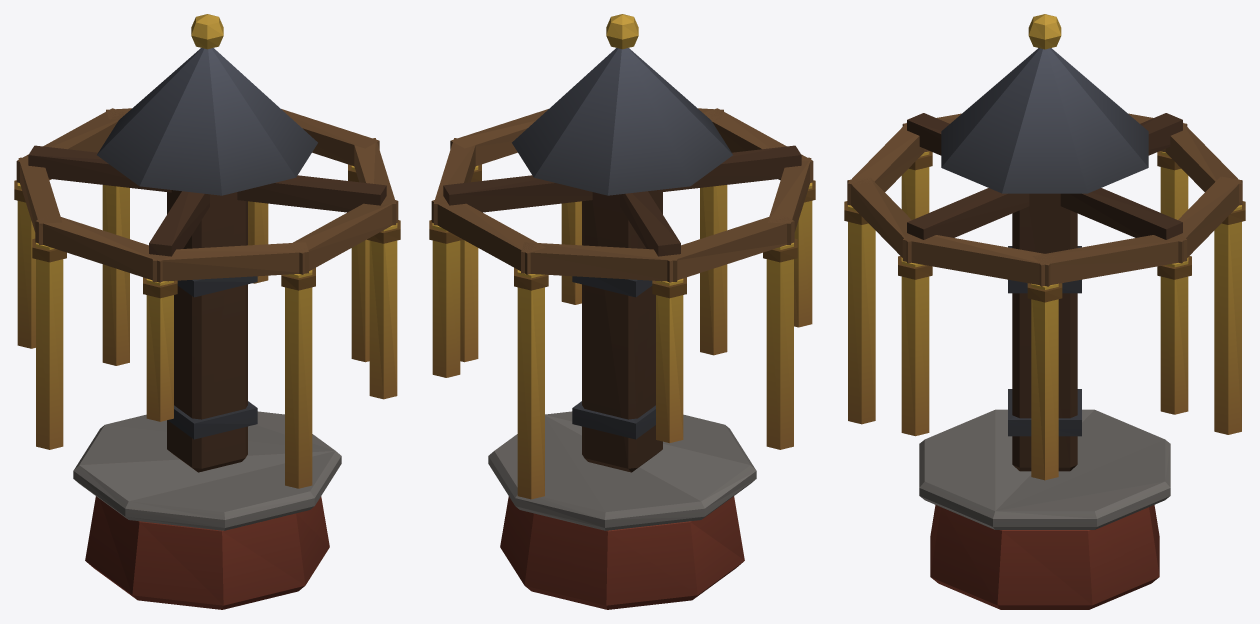
The model's file is chime_post.glb.
3 views of the same model, side by side, from view 1: azimuth 30°, elevation 25°; view 2: azimuth 150°, elevation 25°; view 3: azimuth 270°, elevation 25° (orthographic).
Parts seen in each view (by area): view 1: chime_post; view 2: chime_post; view 3: chime_post.
Boxes of the visible parts, left/top/right/bottom form: chime_post: left=14, top=14, right=400, bottom=609; chime_post: left=429, top=14, right=815, bottom=609; chime_post: left=844, top=14, right=1245, bottom=609.
Size of the model in its own units: 0.6876 by 1.03 by 0.6785.
